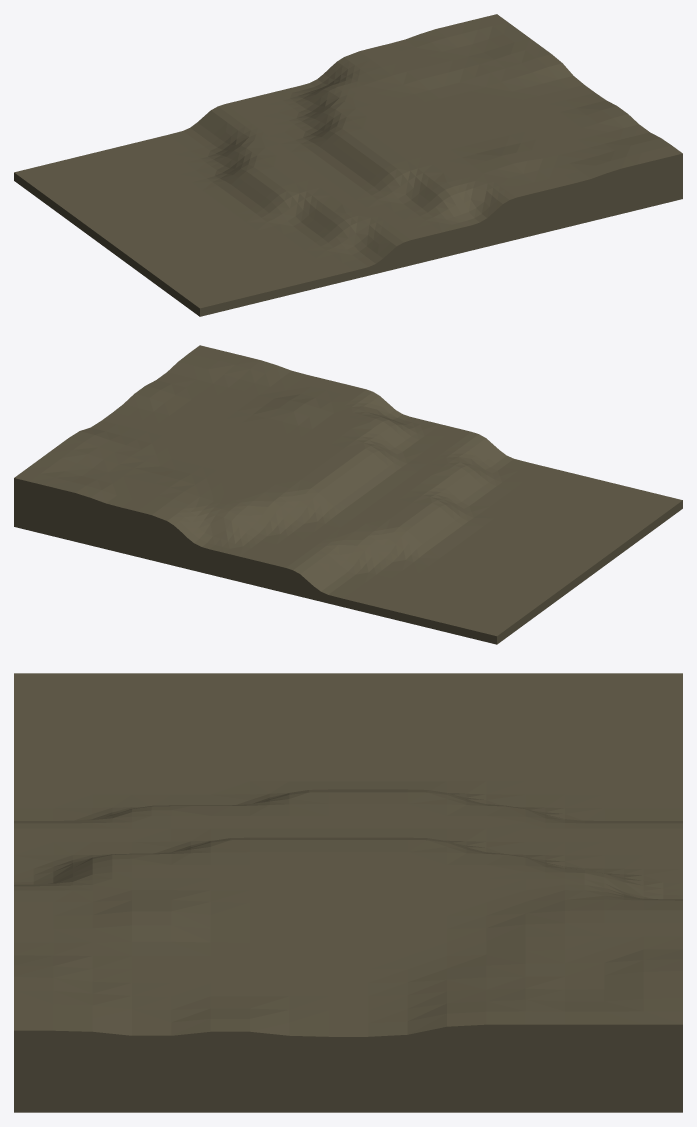
The model's file is land_2.glb.
3 renders of one model, top to bottom at view 1: azimuth 30°, elevation 25°; view 2: azimuth 150°, elevation 25°; view 3: azimuth 270°, elevation 25°, orthographic. The views are drawn at different scales.
Visible parts, largest first — view 1: object_1; view 2: object_1; view 3: object_1.
Part boxes in pixels (<box>): object_1: <box>14,14,682,316</box>; object_1: <box>14,345,682,644</box>; object_1: <box>14,673,682,1112</box>.
Bounding box in the file's own units: 300 × 29 × 200.
